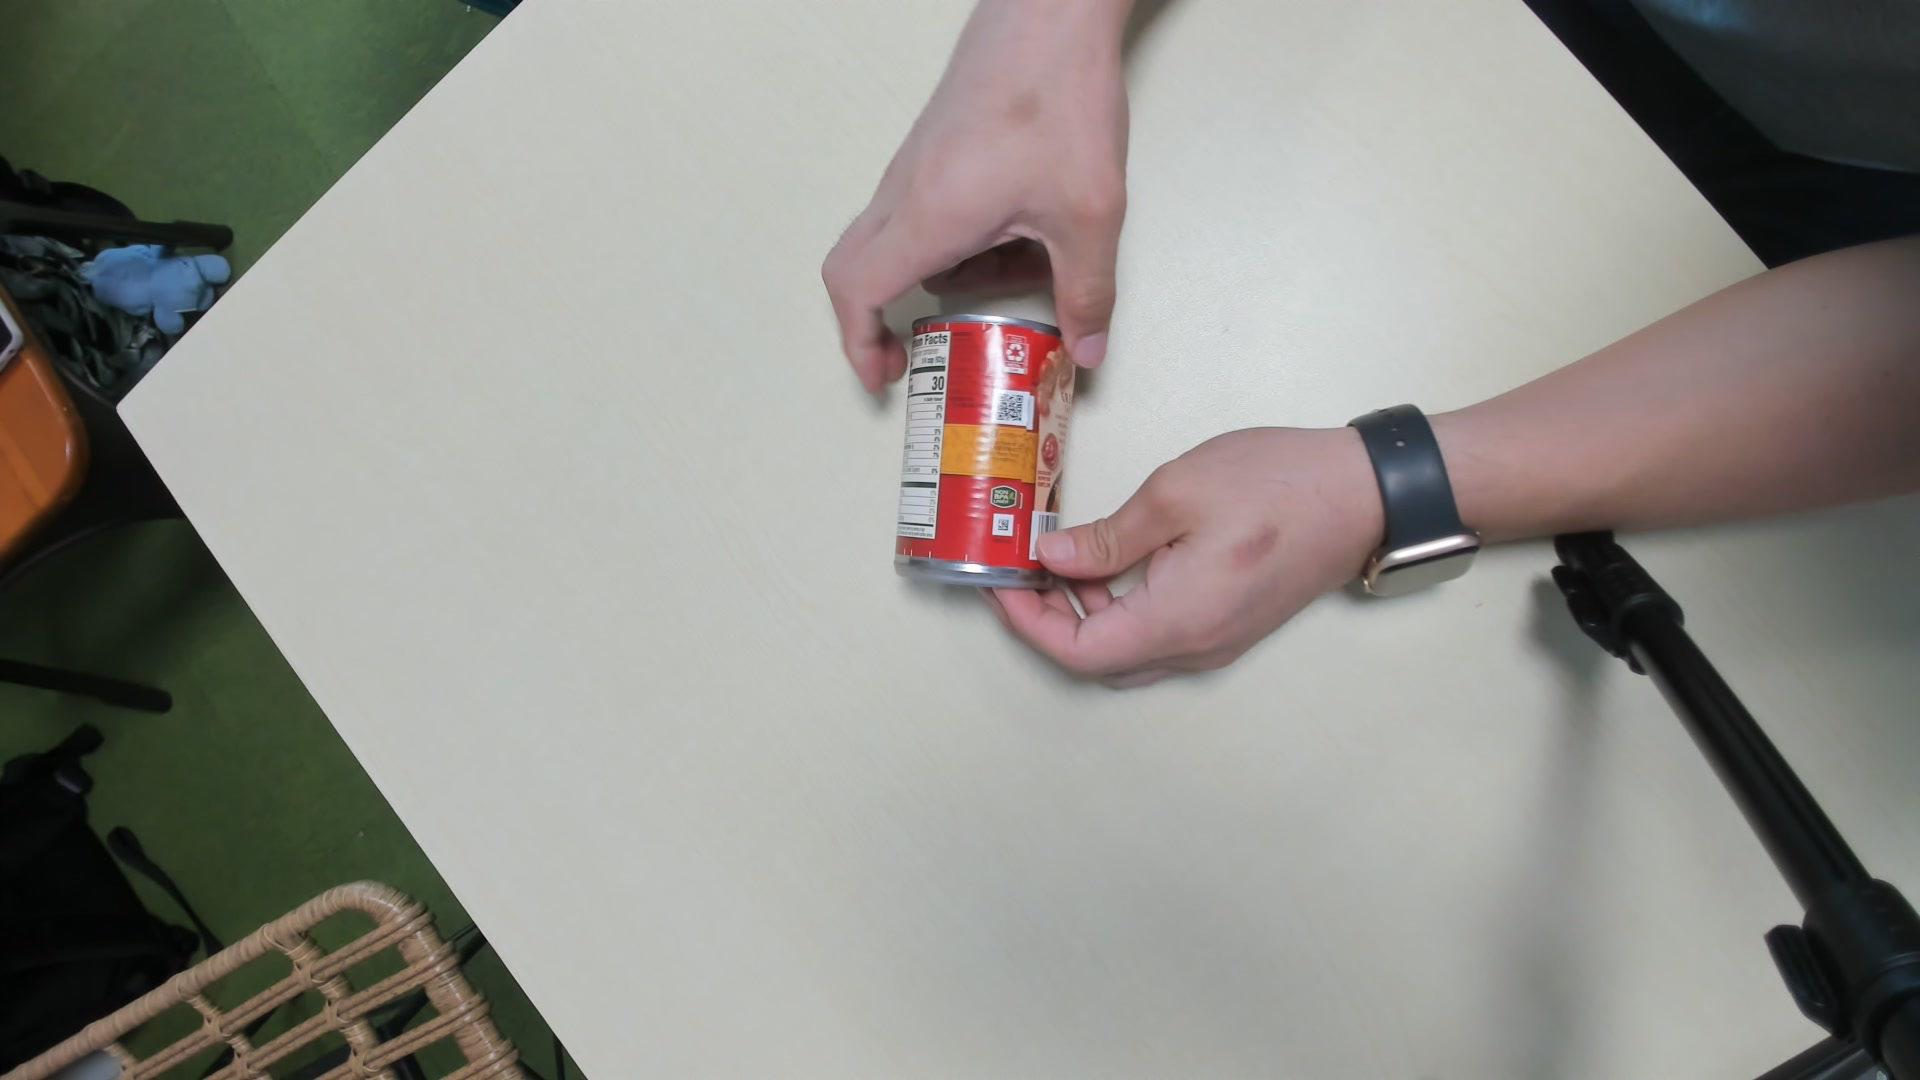OtherSauceDressing_300-399g_NonHalal_NonHealthy: (886, 316, 1077, 601)
